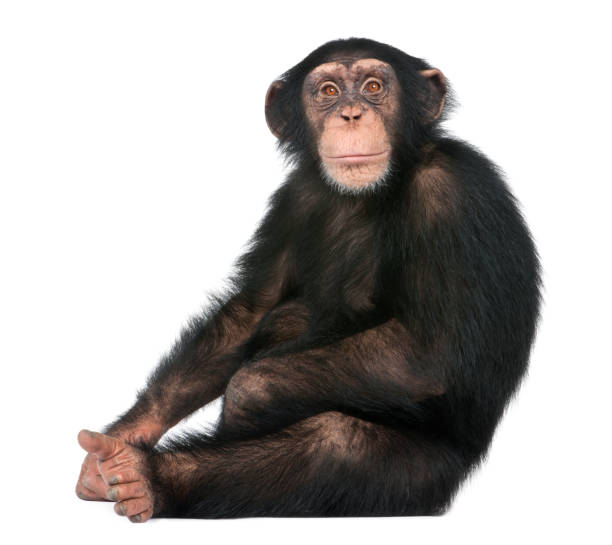chimpanzee: (237, 24, 496, 211)
